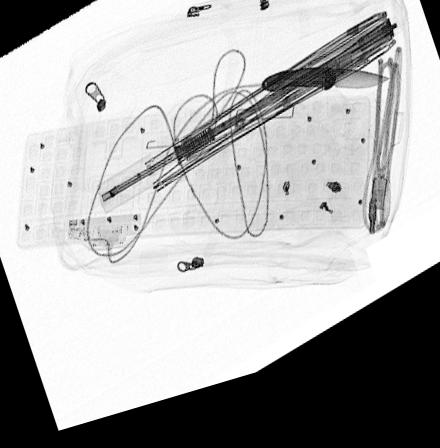Knife: (258, 83, 394, 112)
